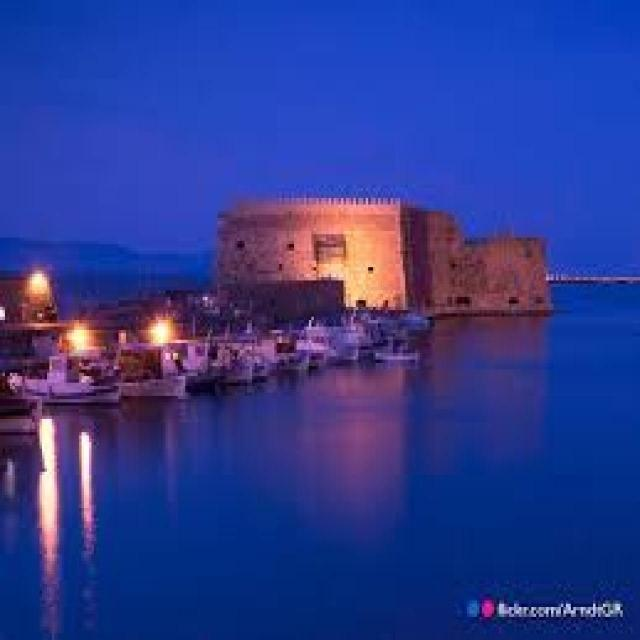Kules: (219, 196, 554, 322)
